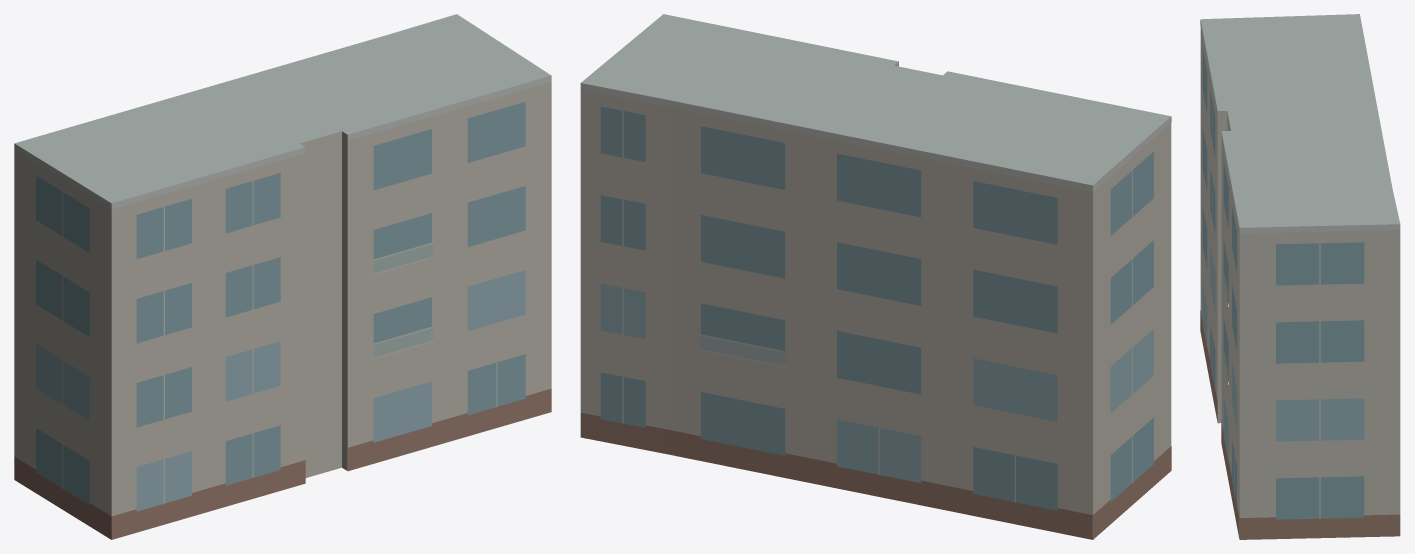
The model's file is survey-upis-32633182.glb.
3 views of the same model, side by side, from view 1: azimuth 30°, elevation 25°; view 2: azimuth 150°, elevation 25°; view 3: azimuth 270°, elevation 25° (orthographic). The views are drawn at different scales.
Parts seen in each view (by area): view 1: survey-upis-32633182.tmp; view 2: survey-upis-32633182.tmp; view 3: survey-upis-32633182.tmp.
Boxes of the visible parts, x1=… form: survey-upis-32633182.tmp: x1=14, y1=14, x2=551, y2=539; survey-upis-32633182.tmp: x1=580, y1=14, x2=1171, y2=539; survey-upis-32633182.tmp: x1=1200, y1=14, x2=1400, y2=539.
Size of the model in its own units: 19.41 by 13.2 by 7.67.
